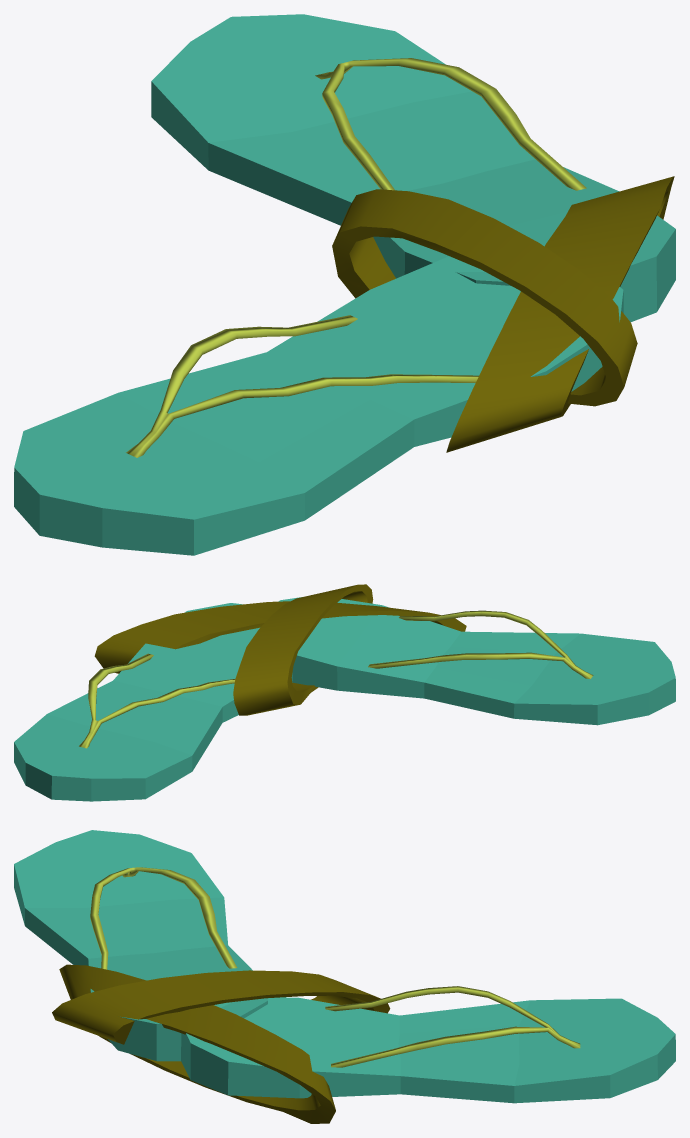
Rendered from Boomerang.fbx.
The picture shows the model from 3 angles, top to bottom: view 1: azimuth 30°, elevation 25°; view 2: azimuth 150°, elevation 25°; view 3: azimuth 270°, elevation 25°; orthographic projection. The views are drawn at different scales.
Visible parts, largest first — view 1: Savatte_SavatteShape4; view 2: Savatte_SavatteShape4; view 3: Savatte_SavatteShape4.
Boxes of the visible parts, left/top/right/bottom form: Savatte_SavatteShape4: left=14, top=14, right=675, bottom=555; Savatte_SavatteShape4: left=14, top=584, right=675, bottom=801; Savatte_SavatteShape4: left=14, top=830, right=675, bottom=1123.
Size of the model in its own units: 65.86 by 8.89 by 69.99.
